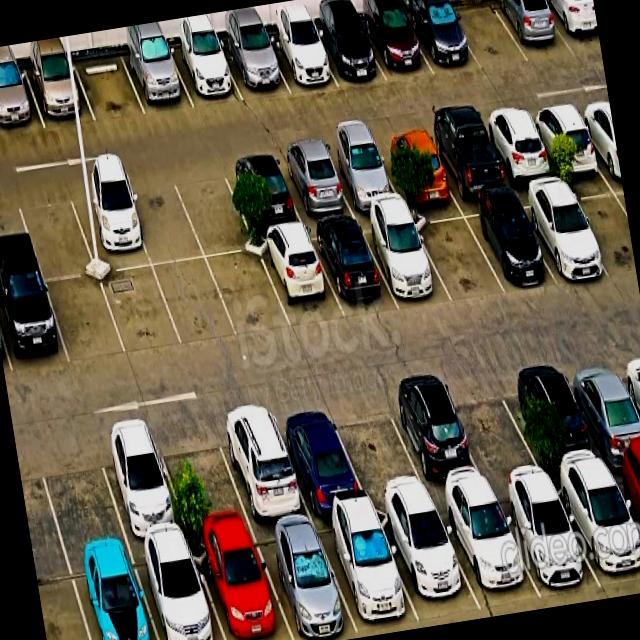car: (394, 512, 473, 630), (222, 431, 304, 544), (331, 519, 407, 639), (455, 500, 531, 620), (267, 529, 347, 640), (516, 488, 588, 610), (106, 450, 184, 560), (572, 478, 640, 601), (398, 393, 473, 504), (200, 539, 281, 640), (291, 424, 361, 537), (519, 365, 588, 477), (536, 185, 606, 293), (458, 383, 528, 490), (374, 212, 442, 313), (482, 195, 548, 297), (576, 364, 640, 468), (74, 174, 144, 269), (440, 114, 504, 216), (142, 553, 217, 640), (386, 117, 450, 218), (74, 563, 157, 640), (323, 217, 386, 318), (227, 150, 296, 240), (125, 20, 187, 120), (264, 232, 330, 324), (491, 110, 552, 208), (540, 100, 600, 198), (0, 283, 63, 372), (175, 13, 234, 108), (271, 0, 329, 95), (317, 0, 378, 89), (225, 5, 282, 100), (332, 134, 392, 222), (28, 36, 86, 126), (286, 142, 344, 226), (366, 0, 424, 81), (412, 0, 469, 74), (495, 0, 555, 54), (0, 43, 35, 135)
free: (44, 450, 124, 569), (168, 438, 243, 548), (342, 412, 420, 516), (424, 212, 496, 306), (76, 27, 140, 126), (133, 169, 196, 267), (104, 261, 171, 353), (52, 276, 120, 366), (22, 195, 88, 282), (186, 160, 248, 252), (212, 246, 276, 334), (160, 254, 222, 338), (453, 0, 514, 66)
